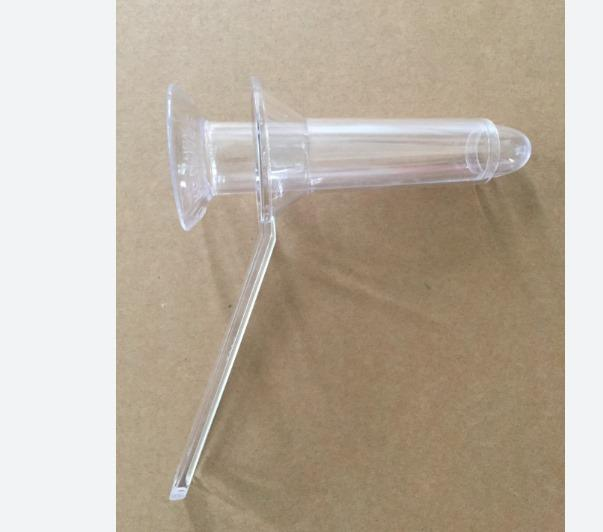Protoscope: (137, 78, 542, 513)
